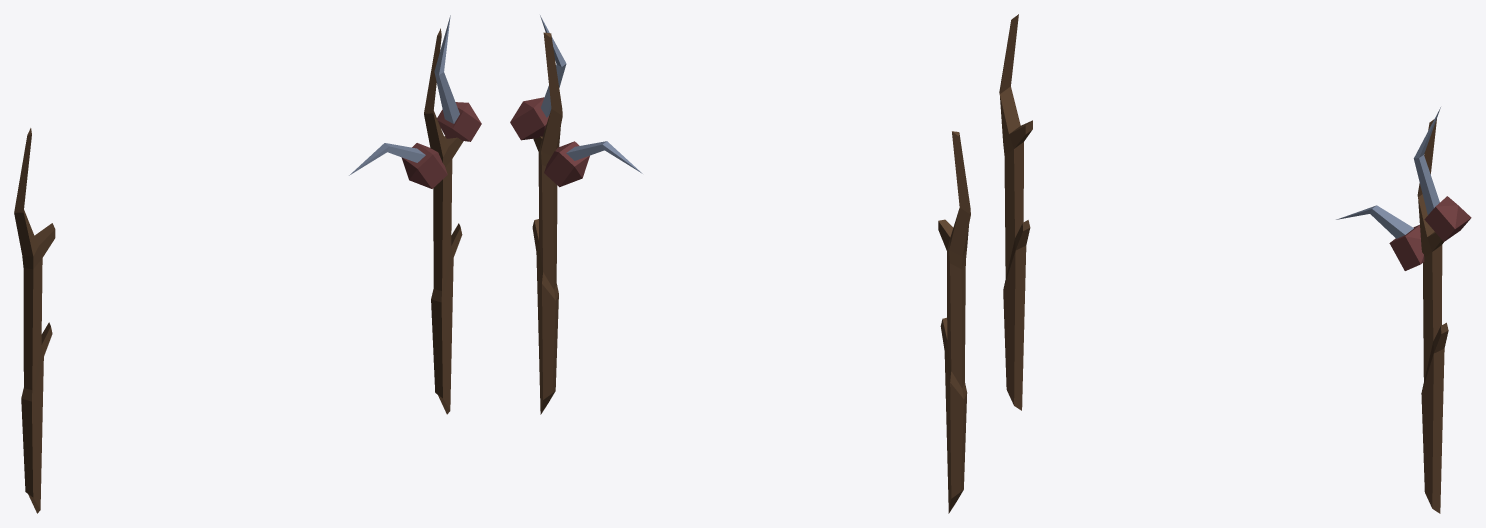
File: weapons exported.fbx
The picture shows the model from 3 angles, left to right: view 1: azimuth 30°, elevation 25°; view 2: azimuth 150°, elevation 25°; view 3: azimuth 330°, elevation 25°; orthographic projection. The views are drawn at different scales.
Visible parts, largest first — view 1: stick, stick.001, tooth2, tooth1; view 2: stick, stick.001, tooth1, tooth2; view 3: stick, stick.001, tooth2, tooth1.
Boxes of the visible parts, x1=… form: stick: x1=14, y1=128, x2=55, y2=513; stick.001: x1=424, y1=28, x2=463, y2=414; tooth2: x1=434, y1=15, x2=481, y2=141; tooth1: x1=349, y1=143, x2=447, y2=188; stick: x1=938, y1=131, x2=970, y2=513; stick.001: x1=532, y1=32, x2=562, y2=414; tooth1: x1=544, y1=141, x2=642, y2=187; tooth2: x1=510, y1=15, x2=566, y2=140; stick: x1=999, y1=14, x2=1032, y2=410; stick.001: x1=1417, y1=119, x2=1448, y2=513; tooth2: x1=1413, y1=107, x2=1471, y2=241; tooth1: x1=1336, y1=205, x2=1424, y2=270.
Bounding box in the file's own units: 5331 × 333 × 4468.
